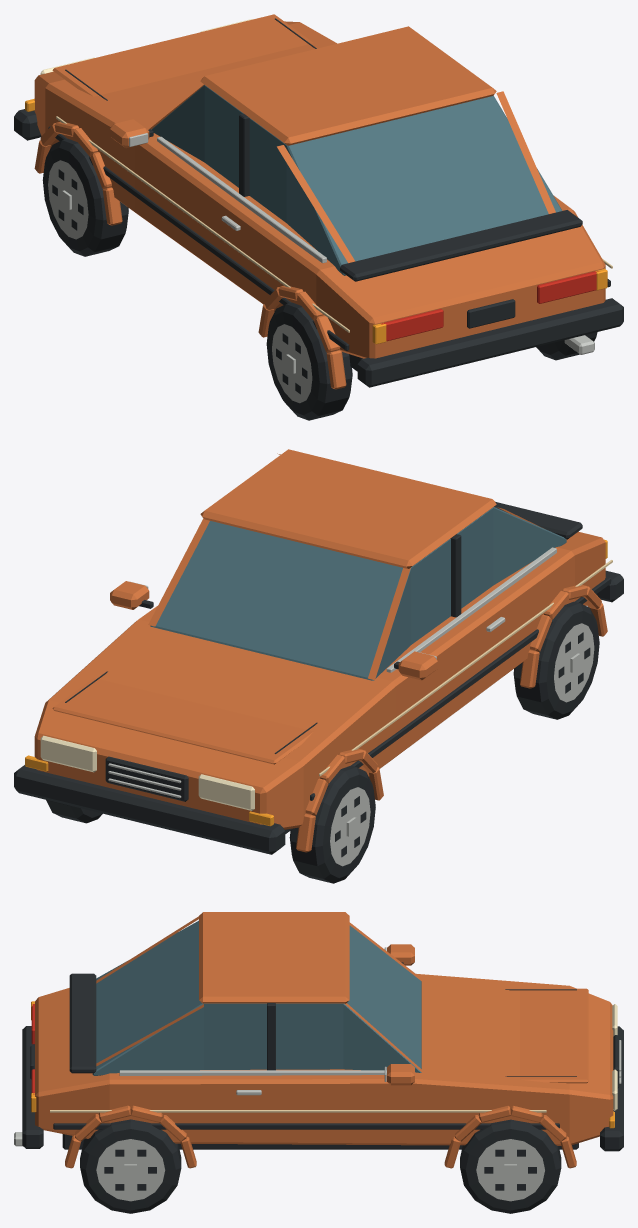
Rendered from roamer.glb.
3 renders of one model, top to bottom at view 1: azimuth 30°, elevation 25°; view 2: azimuth 150°, elevation 25°; view 3: azimuth 270°, elevation 25°, orthographic. The views are drawn at different scales.
Visible parts, largest first — view 1: Monocoque shoulder, Glazed cabin, Floating painted roof, Hood center, Rear impact bumper, Rear spoiler, Wheel_L_rear_All terrain tire, Wheel_L_front_All terrain tire, Wheel_L_front_Rally alloy disc, Wheel_L_rear_Rally alloy disc, Sill protective strip, Window waist trim (+11 smaller); view 2: Monocoque shoulder, Glazed cabin, Floating painted roof, Hood center, Front impact bumper, Wheel_L_rear_All terrain tire, Wheel_L_front_All terrain tire, Wheel_L_front_Rally alloy disc, Wheel_L_rear_Rally alloy disc, Sill protective strip, Recessed grille, Rectangular headlamp (+10 smaller); view 3: Monocoque shoulder, Glazed cabin, Floating painted roof, Hood center, Wheel_R_rear_All terrain tire, Wheel_R_front_All terrain tire, Wheel_R_rear_Rally alloy disc.001, Wheel_R_front_Rally alloy disc.001, Rear spoiler, Sill protective strip.001, Lower sill chassis, Window waist trim.001 (+6 smaller).
Boxes of the visible parts, x1,y1,x2,y2 form: Monocoque shoulder: (34,21,605,358); Glazed cabin: (151,85,562,275); Floating painted roof: (200,26,496,145); Hood center: (52,14,313,96); Rear impact bumper: (357,298,623,387); Rear spoiler: (340,210,582,281); Wheel_L_rear_All terrain tire: (266,302,352,420); Wheel_L_front_All terrain tire: (42,138,128,256); Wheel_L_front_Rally alloy disc: (48,160,88,239); Wheel_L_rear_Rally alloy disc: (272,324,312,403); Sill protective strip: (48,126,349,350); Window waist trim: (157,136,326,263); Monocoque shoulder: (34,531,605,829); Glazed cabin: (150,507,566,680); Floating painted roof: (200,449,496,568); Hood center: (52,678,313,764); Front impact bumper: (14,765,285,854); Wheel_L_rear_All terrain tire: (513,601,599,719); Wheel_L_front_All terrain tire: (289,765,375,883); Wheel_L_front_Rally alloy disc: (330,787,370,866); Wheel_L_rear_Rally alloy disc: (554,623,594,702); Sill protective strip: (310,577,610,800); Recessed grille: (105,756,188,801); Rectangular headlamp: (198,774,254,810); Monocoque shoulder: (35,973,613,1145); Glazed cabin: (92,920,421,1075); Floating painted roof: (199,912,349,1003); Hood center: (520,988,588,1083); Wheel_R_rear_All terrain tire: (80,1119,181,1213); Wheel_R_front_All terrain tire: (460,1119,561,1213); Wheel_R_rear_Rally alloy disc.001: (96,1139,165,1201); Wheel_R_front_Rally alloy disc.001: (476,1139,544,1201); Rear spoiler: (69,973,96,1073); Sill protective strip.001: (53,1123,559,1129); Lower sill chassis: (62,1134,578,1149); Window waist trim.001: (119,1070,386,1075).
Bounding box in the file's own units: 2.2 × 1.59 × 4.33.
